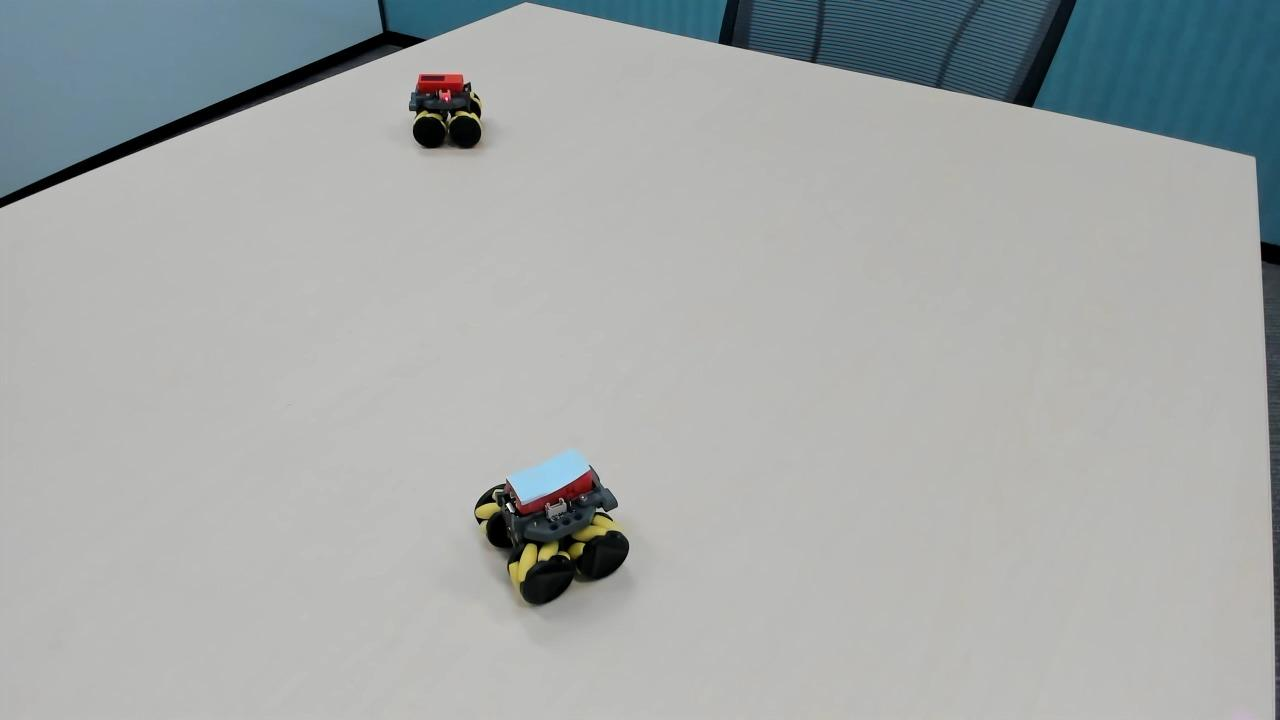B-Robot: (471, 445, 646, 611)
R-Robot: (401, 64, 496, 160)
